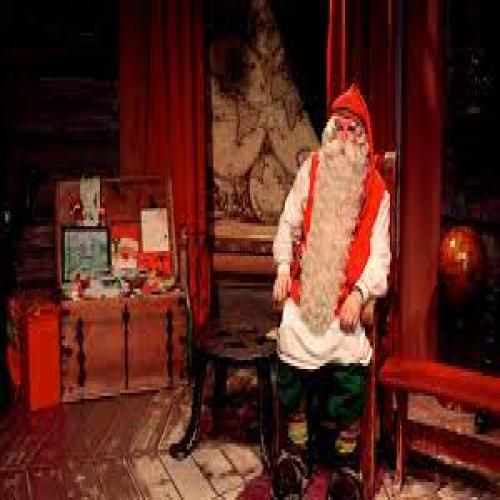Santa: (274, 83, 391, 500)
